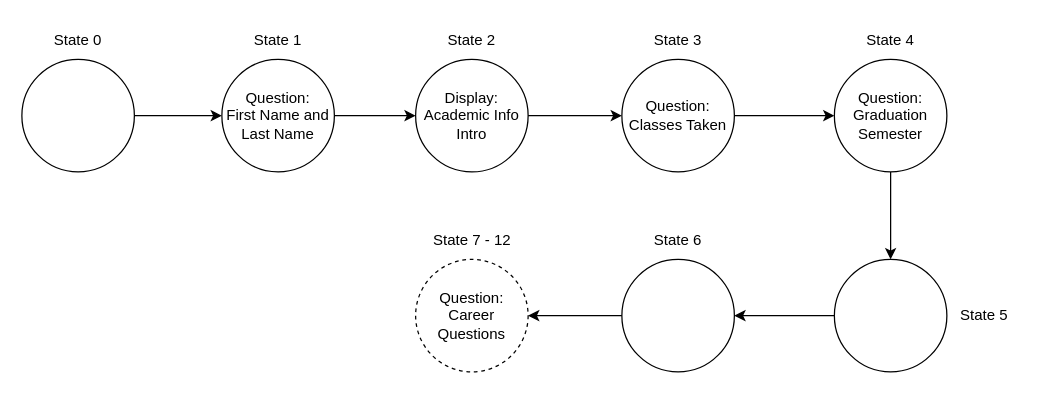
This 1044x394 diagram has some shape labels left out. The shapes that lost their labels are listed below. From the top down, each one's centre as x and y in pixels, then its label:
At (x=77, y=115): "Display: Personal Info Intro".
At (x=677, y=315): "Display: Career Questions Intro".
At (x=890, y=315): "Question: Academic Standing".
